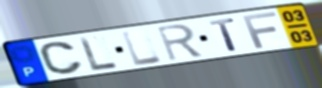C: (38, 41, 85, 76)
F: (240, 10, 280, 50)
L: (119, 29, 165, 67), (77, 35, 121, 73)
R: (155, 22, 206, 62)
T: (207, 17, 240, 52)
